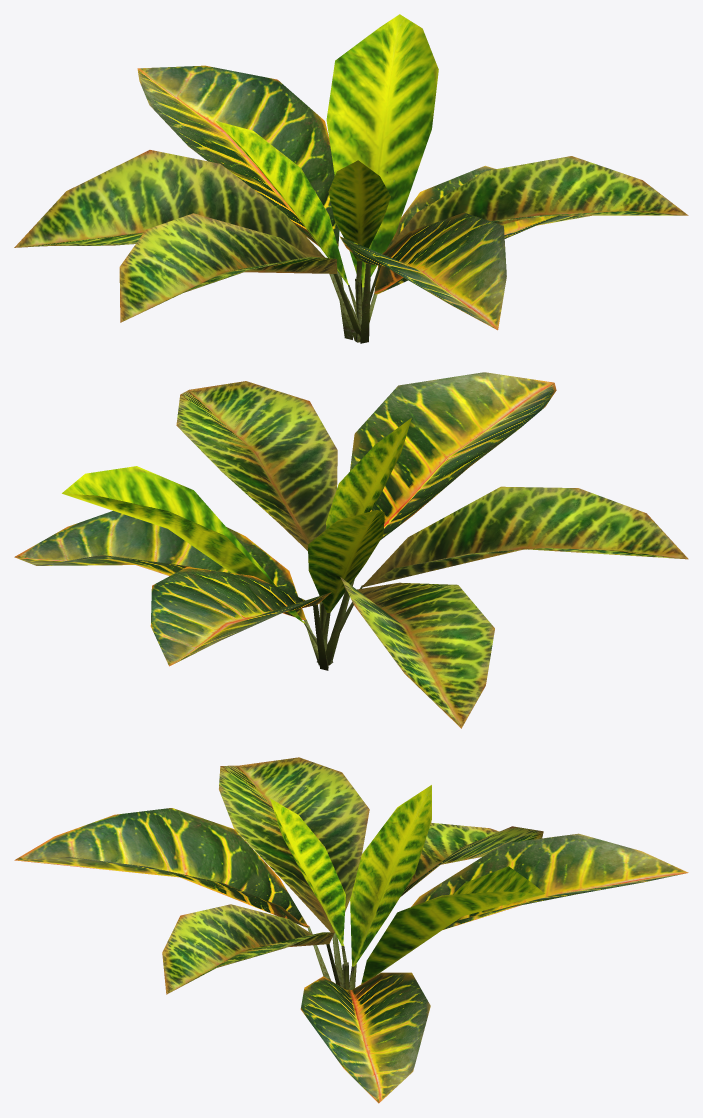
Rendered from Croton_A_m.FBX.
3 views of the same model, one above another, from view 1: azimuth 30°, elevation 25°; view 2: azimuth 150°, elevation 25°; view 3: azimuth 270°, elevation 25° (orthographic). The views are drawn at different scales.
Visible parts, largest first — view 1: Object2654; view 2: Object2654; view 3: Object2654.
Part boxes in pixels (<box>): Object2654: <box>14,14,688,343</box>; Object2654: <box>14,372,688,728</box>; Object2654: <box>14,757,688,1103</box>.
Bounding box in the file's own units: 71.38 × 25.86 × 78.09.
